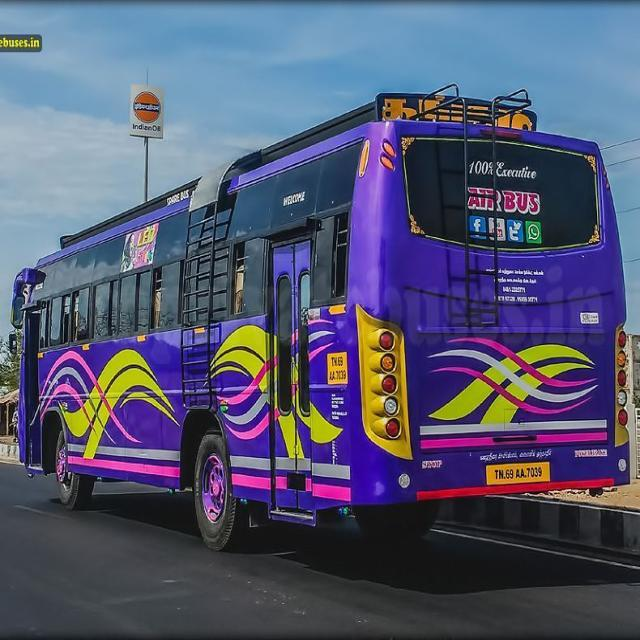Bus: (6, 80, 634, 552)
